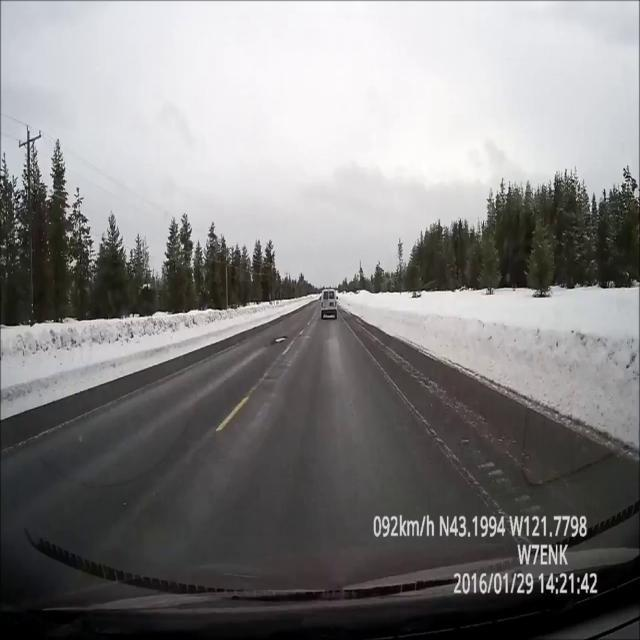Buraco: (272, 335, 289, 344)
